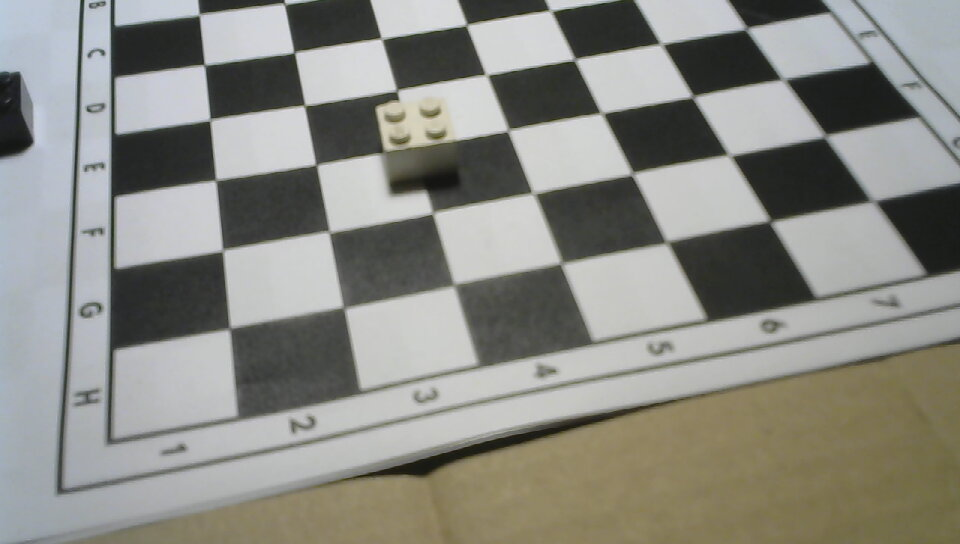wp: (361, 93, 472, 185)
